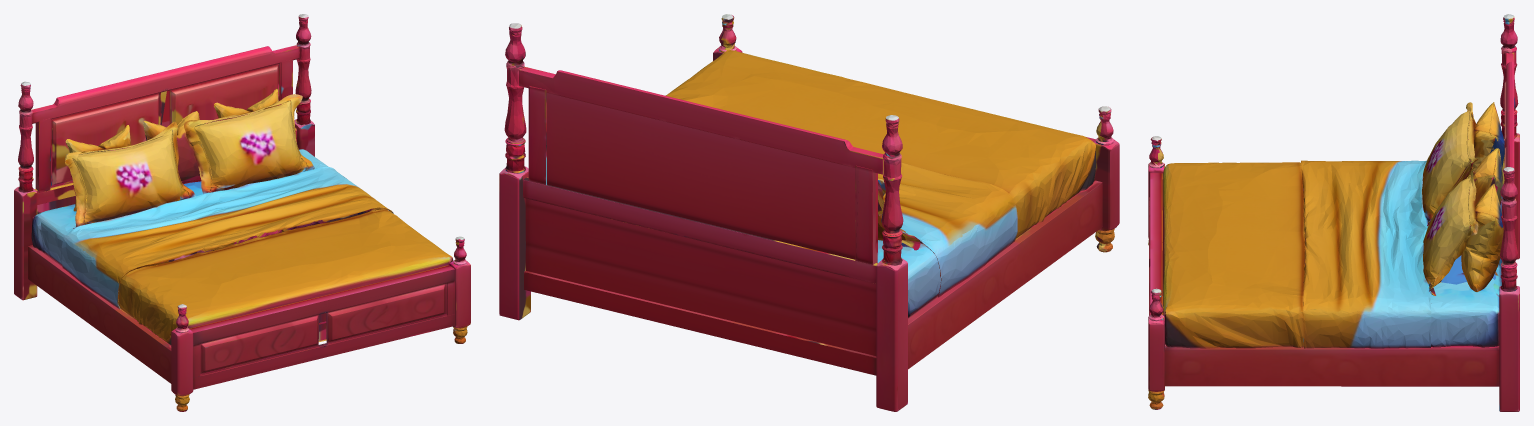
Rendered from edited_mesh.glb.
The picture shows the model from 3 angles, left to right: view 1: azimuth 30°, elevation 25°; view 2: azimuth 150°, elevation 25°; view 3: azimuth 270°, elevation 25°; orthographic projection. The views are drawn at different scales.
Visible parts, largest first — view 1: solid_001_wire; view 2: solid_001_wire; view 3: solid_001_wire.
Part boxes in pixels (x1,y1,x2,y2): solid_001_wire: [14, 14, 470, 411]; solid_001_wire: [499, 14, 1119, 411]; solid_001_wire: [1148, 14, 1519, 411].
Bounding box in the file's own units: 1.68 × 1.16 × 1.63.
Materials: 1 (1 with a texture image).
